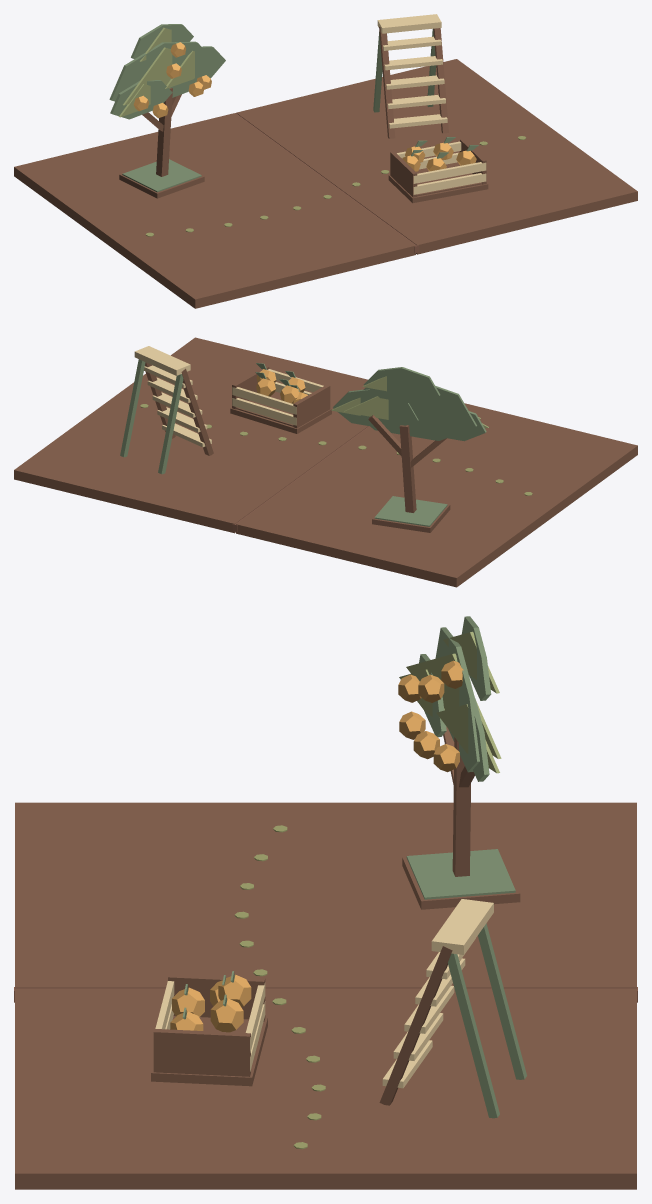
File: orchard.glb
3 renders of one model, top to bottom at view 1: azimuth 30°, elevation 25°; view 2: azimuth 150°, elevation 25°; view 3: azimuth 270°, elevation 25°, orthographic. The views are drawn at different scales.
Parts seen in each view (by area): view 1: page_block (×2), leaf_facet (×3), rung (×5), crate_slat (×2), front_rail (×2), paper_top, paper_base (×2), light_facet (×2), top_step, trunk, crate_end, back_rail; view 2: page_block (×2), leaf_facet (×4), back_rail (×2), rung (×4), crate_end (×2), crate_slat (×2), paper_top, paper_base (×2), trunk, top_step, front_rail, light_facet (+1 smaller); view 3: page_block (×2), crate_end (×2), back_rail (×2), paper_top, light_facet (×3), leaf_facet (×2), paper_base (×2), top_step, front_rail, trunk, fruit.
Boxes of the visible parts, left/top/right/bottom form: page_block (×2): left=14, top=59, right=637, bottom=308; leaf_facet (×3): left=109, top=24, right=216, bottom=119; rung (×5): left=383, top=36, right=447, bottom=128; crate_slat (×2): left=413, top=162, right=486, bottom=194; front_rail (×2): left=379, top=26, right=448, bottom=138; paper_top: left=122, top=159, right=201, bottom=192; paper_base (×2): left=119, top=159, right=488, bottom=203; light_facet (×2): left=123, top=47, right=194, bottom=105; top_step: left=377, top=14, right=441, bottom=33; trunk: left=156, top=88, right=172, bottom=176; crate_end: left=390, top=151, right=417, bottom=197; back_rail: left=373, top=32, right=382, bottom=112; page_block (×2): left=14, top=337, right=637, bottom=587; leaf_facet (×4): left=333, top=367, right=486, bottom=441; back_rail (×2): left=120, top=359, right=183, bottom=474; rung (×4): left=147, top=377, right=211, bottom=447; crate_end (×2): left=232, top=365, right=330, bottom=428; crate_slat (×2): left=232, top=387, right=296, bottom=425; paper_top: left=374, top=496, right=447, bottom=526; paper_base (×2): left=230, top=408, right=450, bottom=532; trunk: left=399, top=425, right=416, bottom=512; top_step: left=134, top=346, right=190, bottom=375; front_rail: left=181, top=368, right=213, bottom=455; light_facet: left=344, top=396, right=480, bottom=419; page_block (×2): left=15, top=802, right=636, bottom=1189; crate_end (×2): left=153, top=974, right=265, bottom=1076; back_rail (×2): left=448, top=923, right=526, bottom=1118; paper_top: left=406, top=849, right=515, bottom=899; light_facet (×3): left=406, top=631, right=501, bottom=773; leaf_facet (×2): left=435, top=616, right=491, bottom=772; paper_base (×2): left=151, top=849, right=520, bottom=1086; top_step: left=431, top=899, right=493, bottom=954; front_rail: left=379, top=946, right=452, bottom=1105; trunk: left=452, top=737, right=470, bottom=876; fruit: left=210, top=998, right=243, bottom=1032.
Bounding box in the file's own units: 8.89 × 3.09 × 6.32.
